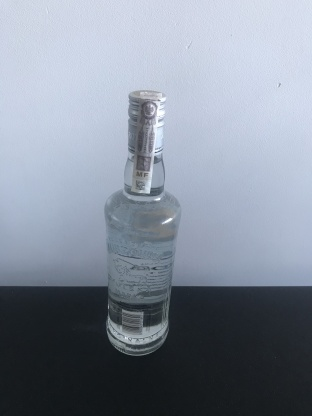nakretka: (125, 85, 169, 157)
